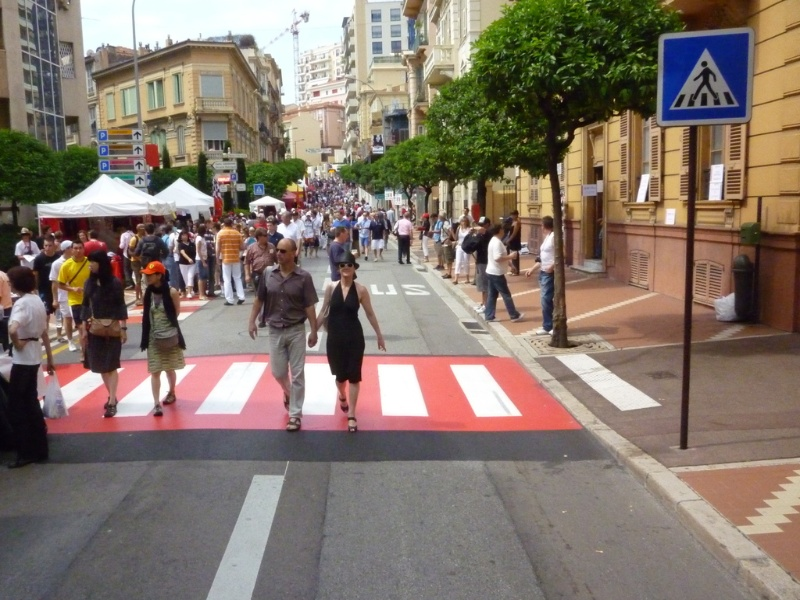parking: (98, 130, 108, 140), (99, 145, 109, 155), (99, 161, 109, 170)
pedestrian_crossing_ahead: (660, 28, 753, 125)
straight_direction: (135, 174, 145, 186), (133, 145, 143, 156), (132, 131, 142, 140), (134, 161, 144, 170)
